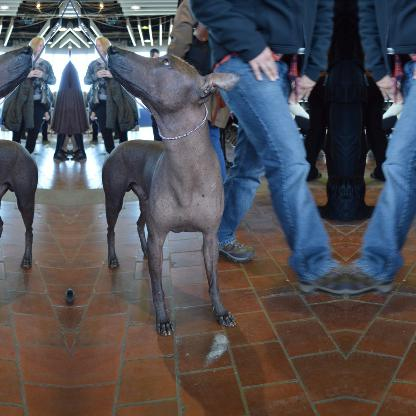Dog: (100, 45, 238, 337), (0, 45, 39, 338)
